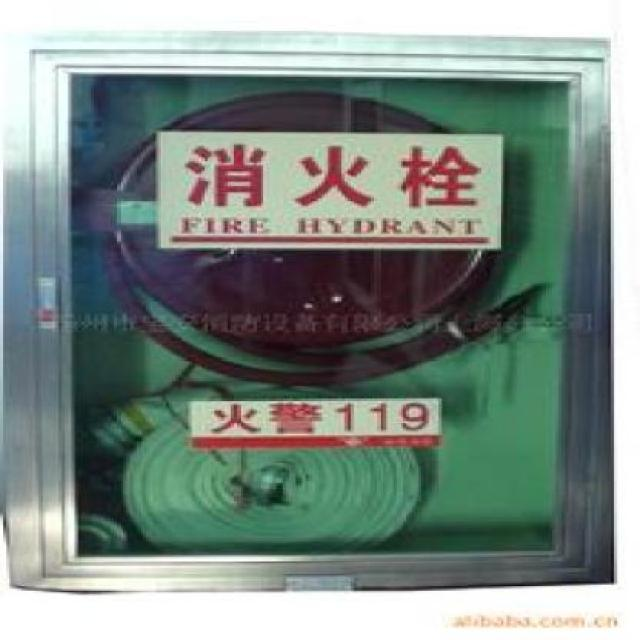firehydrant: (3, 23, 621, 602)
